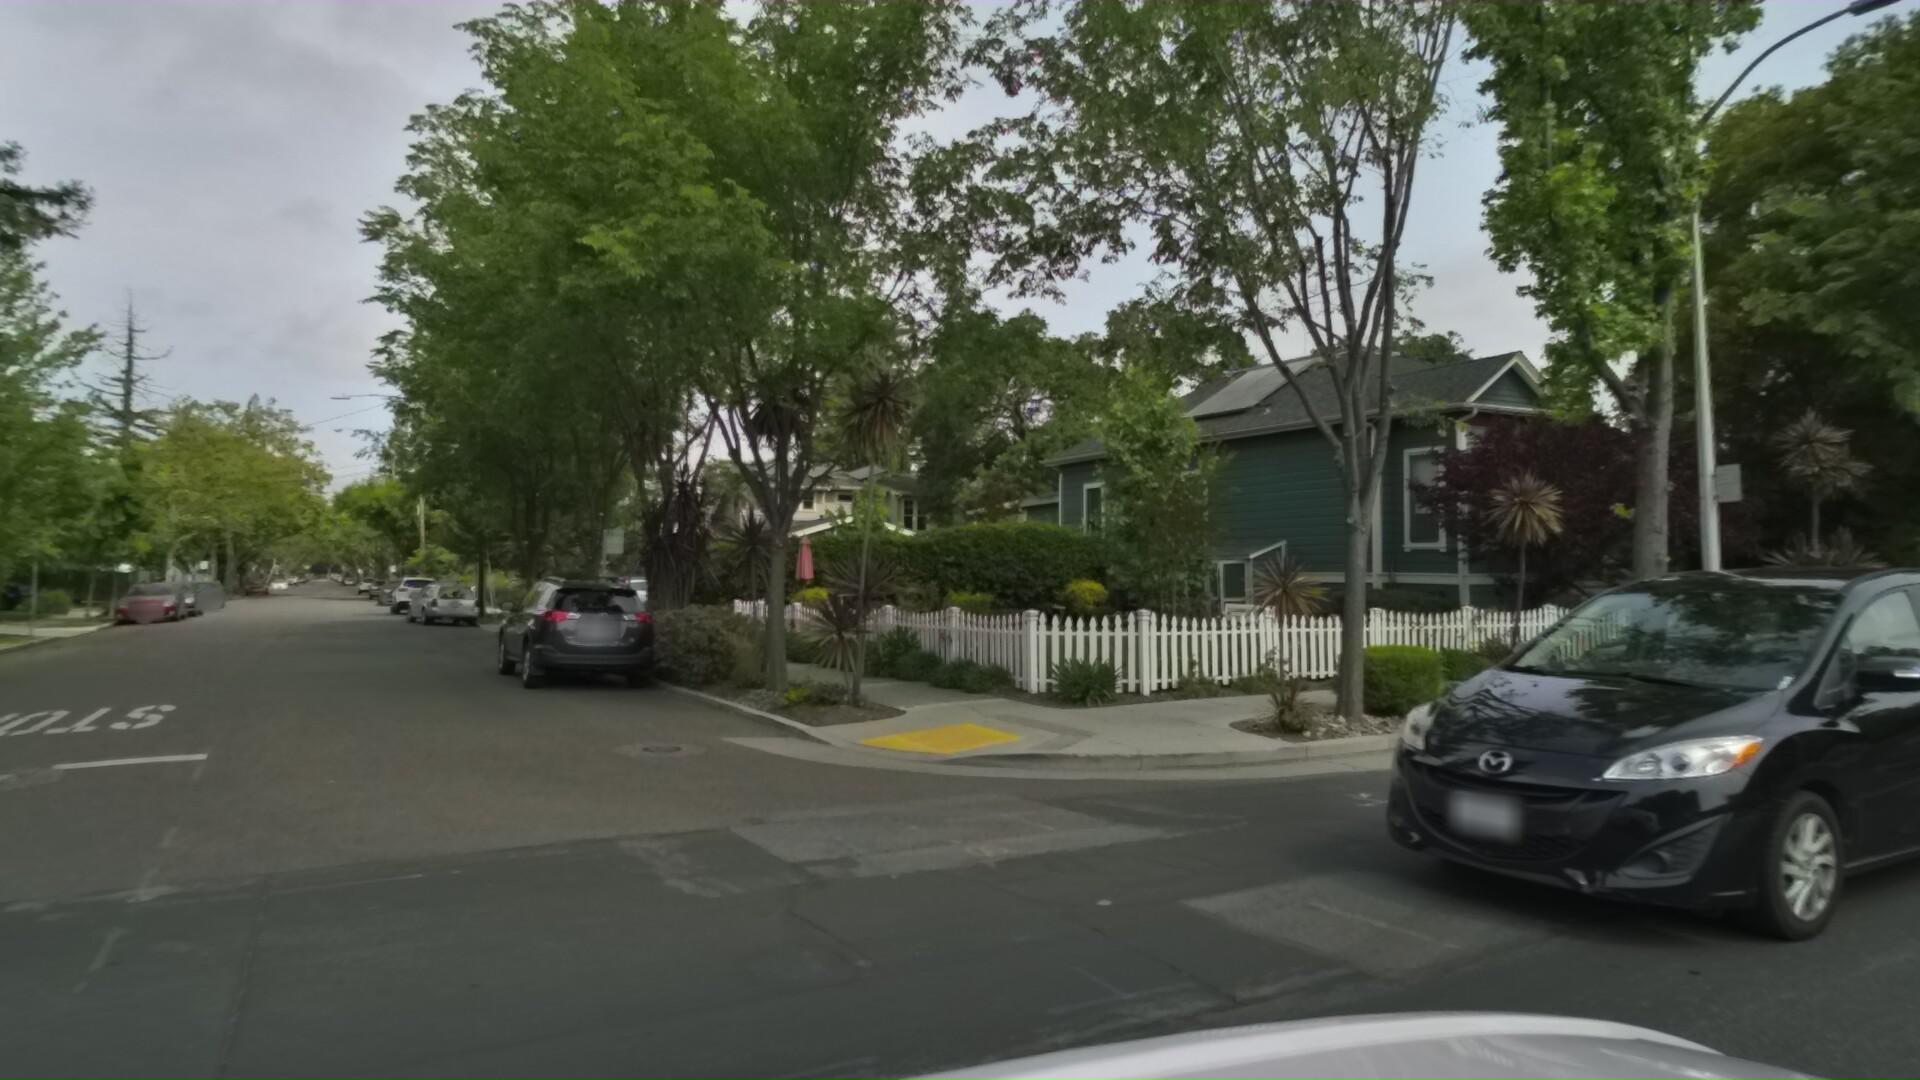car: (1150, 560, 1920, 1063), (1505, 580, 1909, 769), (456, 572, 632, 707), (549, 576, 686, 621), (86, 579, 185, 632), (386, 579, 467, 626), (120, 574, 198, 622), (375, 572, 429, 617), (166, 575, 220, 612), (365, 575, 407, 609), (356, 576, 392, 603)
